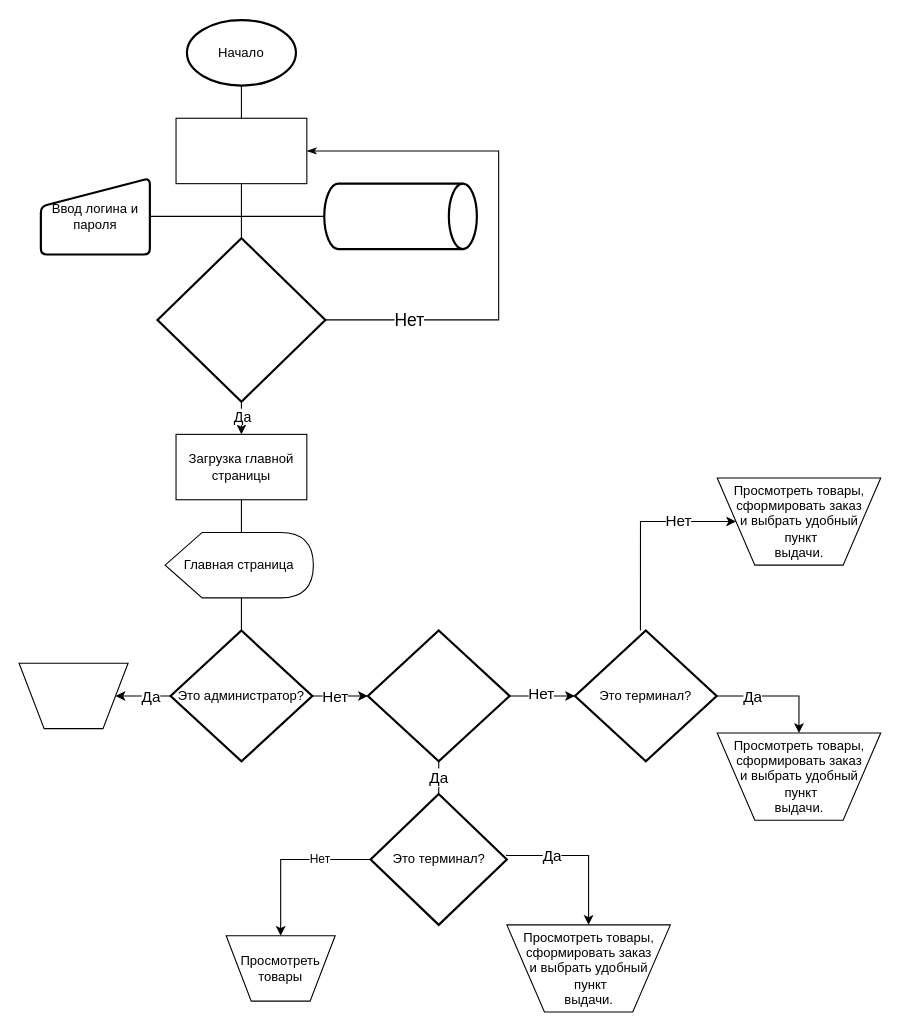
Image size: 900x1031. Some labels were removed from this diagram. Each missing label, with the centre of its shape:
"Введённые данные совпадают с данными из бд?" belongs at pixel 241 319.
"Данные пользователей" belongs at pixel 400 216.
"Загрузка стартовой страницы" belongs at pixel 241 150.
"Нажать на кнопку списка товаров" belongs at pixel 73 695.
"Это зарегистрированный пользователь?" belongs at pixel 438 695.
